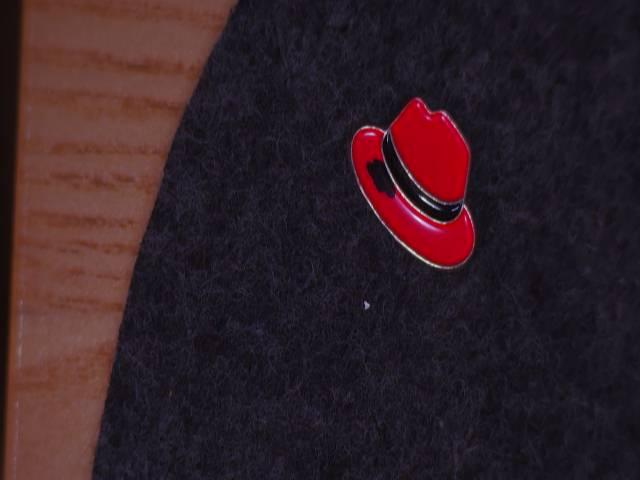Red-Hat: (315, 83, 514, 305)
Scratch: (358, 150, 415, 201)
